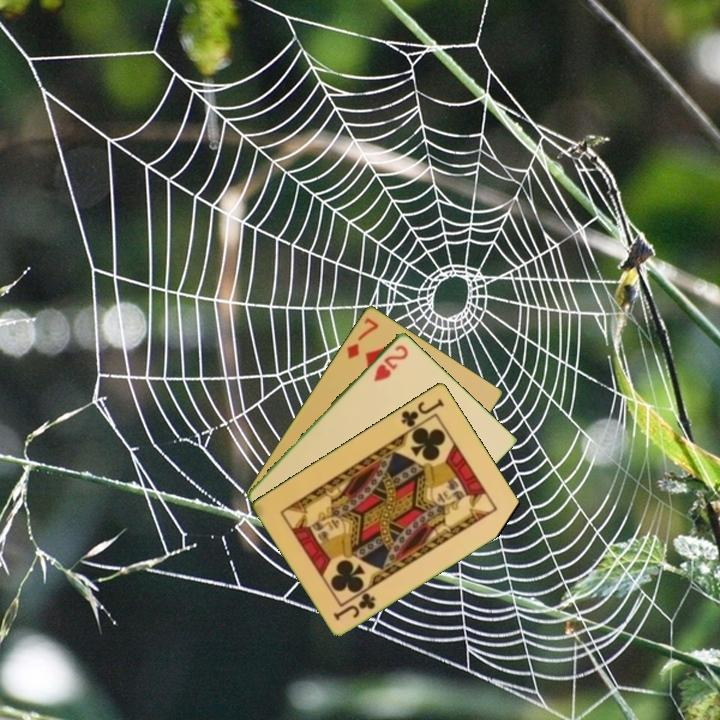2h: (370, 341, 411, 384)
7d: (343, 314, 381, 362)
Jc: (397, 394, 447, 430), (330, 589, 378, 623)
